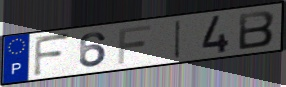4: (200, 14, 231, 55)
6: (78, 32, 109, 68)
B: (237, 9, 277, 51)
F: (31, 32, 72, 78), (115, 23, 153, 66)
I: (172, 18, 183, 61)
